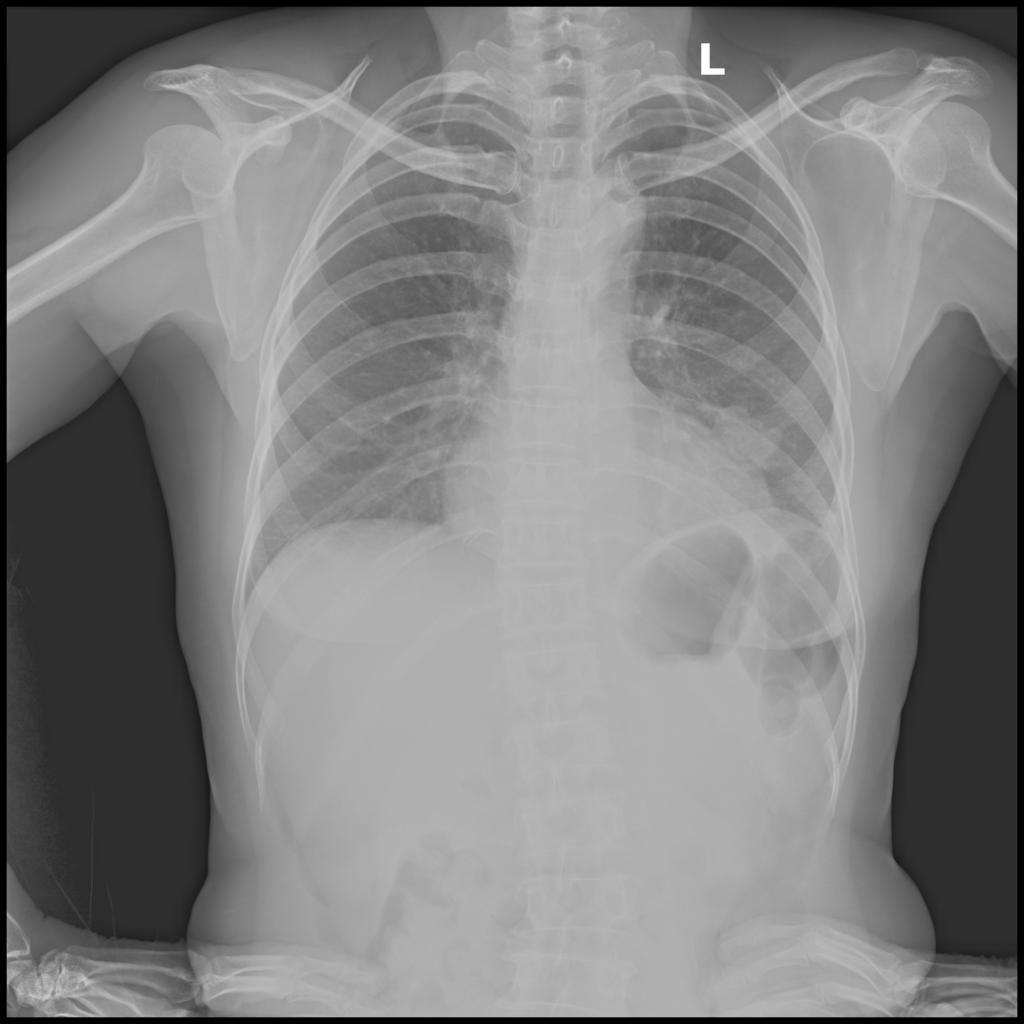Nodule: (708, 404, 798, 465)
